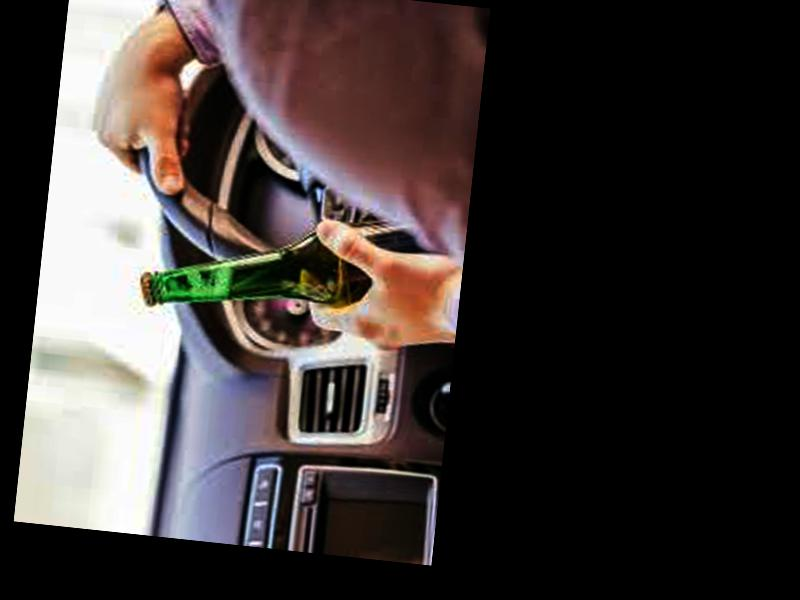Beer: (136, 197, 435, 336)
